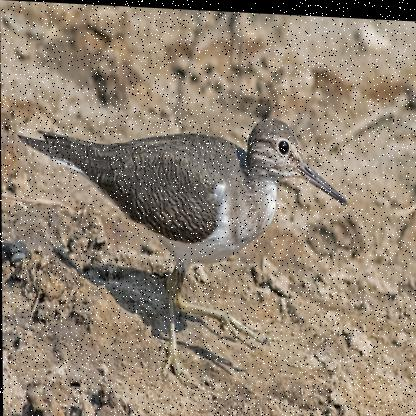Burung: (24, 93, 350, 399)
